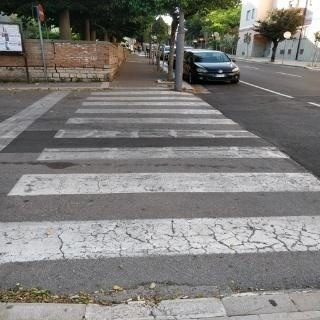road_crosswalk: (0, 83, 319, 271)
